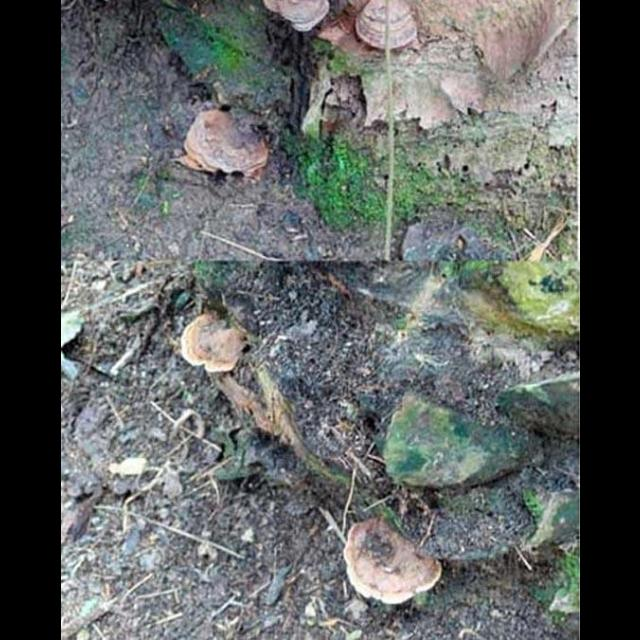ganoderma: (343, 517, 447, 612), (183, 107, 272, 175), (180, 314, 249, 375), (354, 2, 421, 53), (261, 1, 335, 33)
